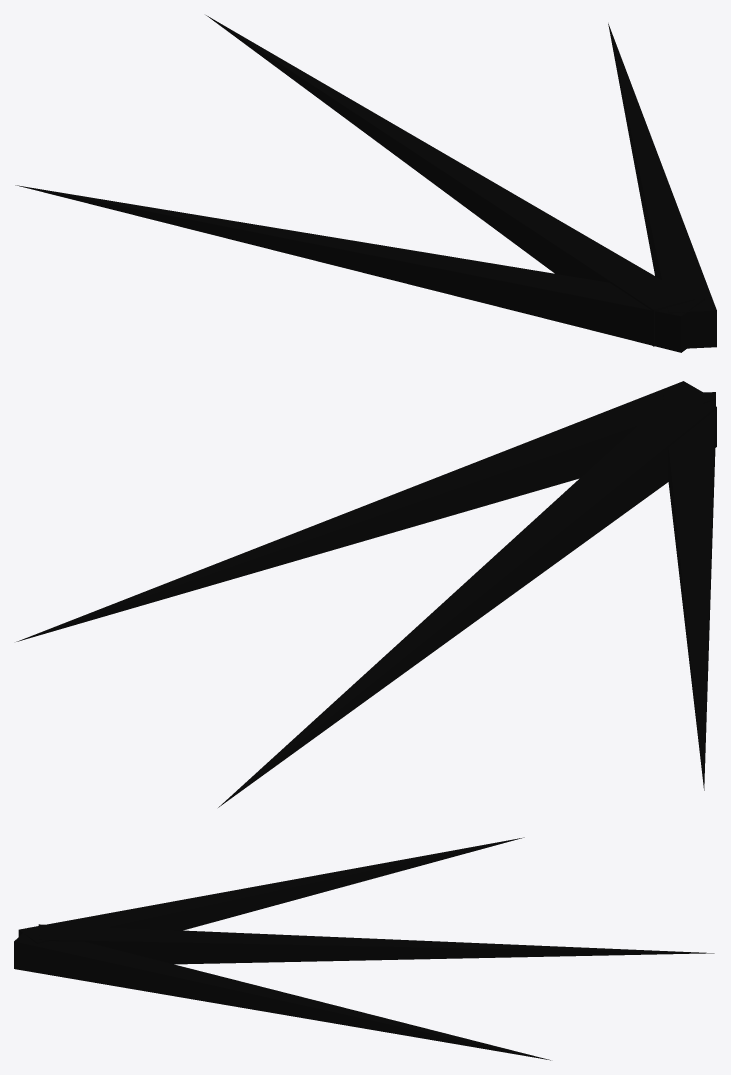
Rendered from RussTalon.glb.
3 renders of one model, top to bottom at view 1: azimuth 30°, elevation 25°; view 2: azimuth 150°, elevation 25°; view 3: azimuth 270°, elevation 25°, orthographic. The views are drawn at different scales.
Visible parts, largest first — view 1: Talon; view 2: Talon; view 3: Talon.
Part boxes in pixels (x1,y1,x2,y2): Talon: (15, 15, 716, 352); Talon: (16, 381, 716, 807); Talon: (14, 837, 714, 1060).
Size of the model in its own units: 0.874 by 0.05 by 1.16.
1 material, 1 textured.
